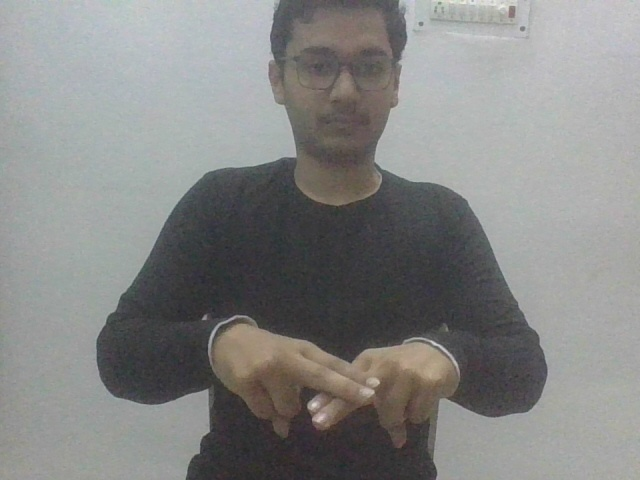F: (208, 312, 459, 450)
